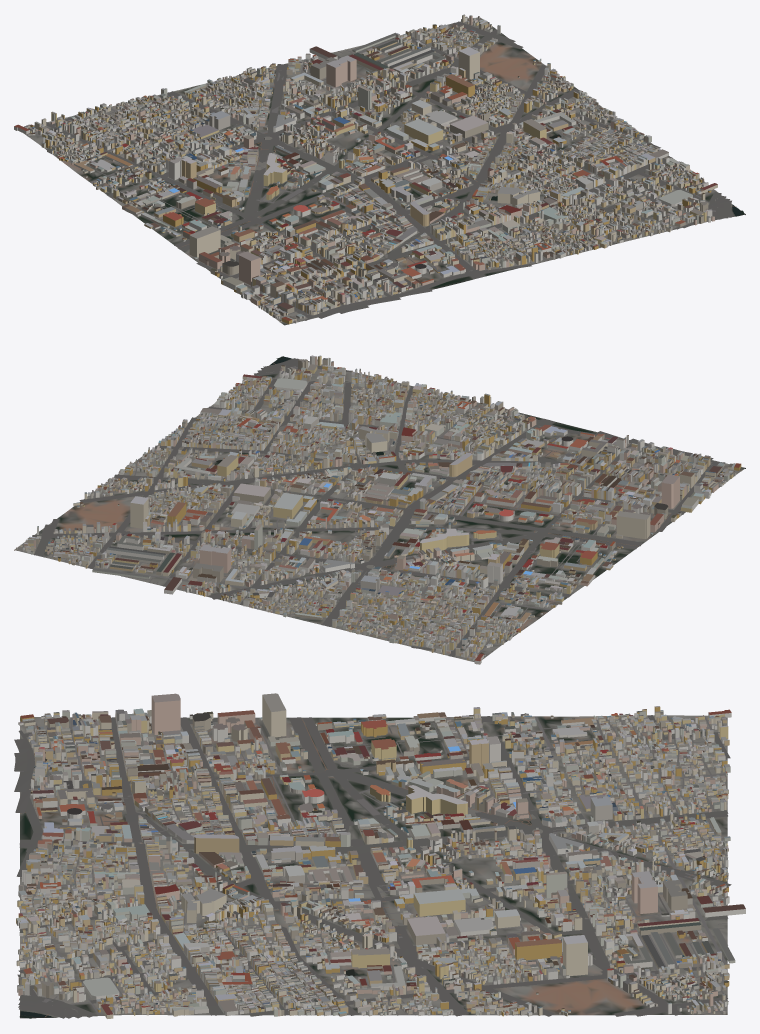
3 renders of one model, top to bottom at view 1: azimuth 30°, elevation 25°; view 2: azimuth 150°, elevation 25°; view 3: azimuth 270°, elevation 25°, orthographic. The views are drawn at different scales.
Visible parts, largest first — view 1: buildings, ground, roads; view 2: buildings, ground, roads; view 3: buildings, ground, roads.
Part boxes in pixels (left/top/right/bottom): buildings: left=14, top=14, right=717, bottom=324; ground: left=22, top=17, right=745, bottom=325; roads: left=27, top=18, right=736, bottom=320; buildings: left=16, top=355, right=742, bottom=664; ground: left=14, top=356, right=745, bottom=662; roads: left=18, top=358, right=729, bottom=661; buildings: left=16, top=693, right=745, bottom=1018; ground: left=20, top=715, right=727, bottom=1018; roads: left=14, top=715, right=731, bottom=1018.
Bounding box in the file's own units: 1429 × 79.27 × 1449.
